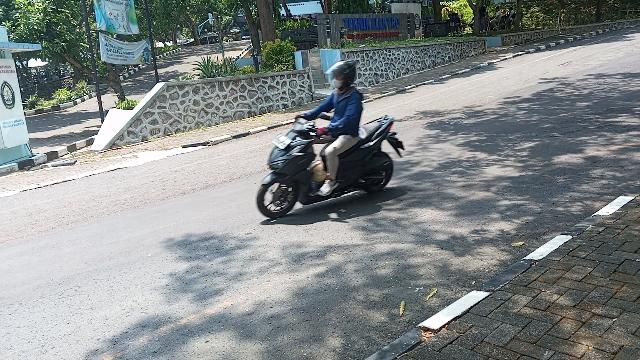helm: (325, 59, 359, 94)
motor: (258, 114, 409, 221)
